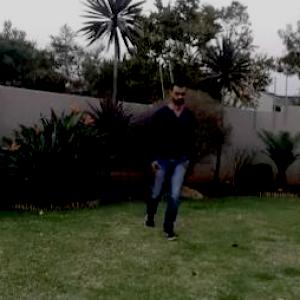follow: (148, 81, 189, 228)
